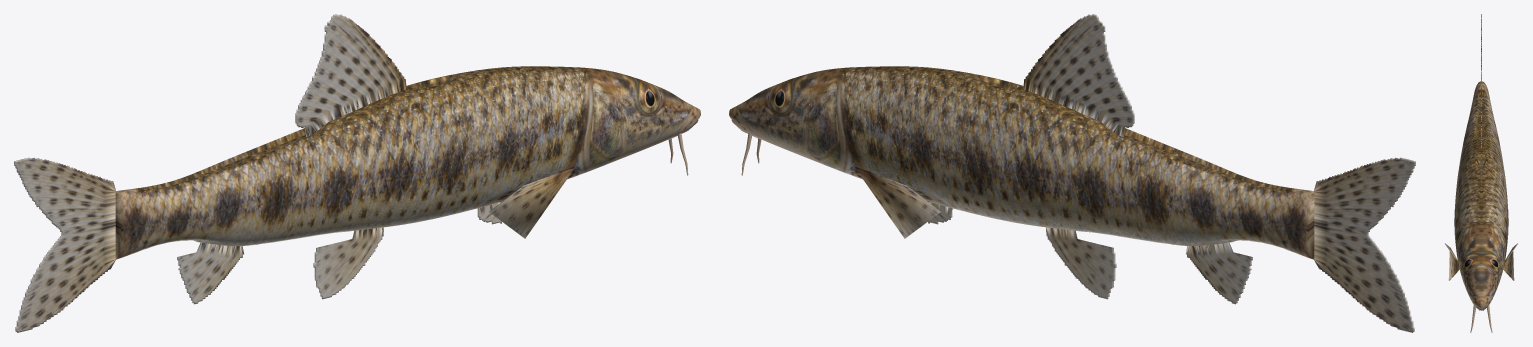
Rendered from gudgeon.glb.
The picture shows the model from 3 angles, left to right: view 1: azimuth 30°, elevation 25°; view 2: azimuth 150°, elevation 25°; view 3: azimuth 270°, elevation 25°; orthographic projection. The views are drawn at different scales.
Visible parts, largest first — view 1: gudgeon_realistic.003; view 2: gudgeon_realistic.003; view 3: gudgeon_realistic.003.
Boxes of the visible parts, box(x1,y1,x2,y2) form: gudgeon_realistic.003: box(14, 14, 700, 332); gudgeon_realistic.003: box(729, 14, 1415, 332); gudgeon_realistic.003: box(1445, 14, 1517, 332).
Size of the model in its own units: 1 by 0.392 by 0.1452.
3 materials, 3 textured.
